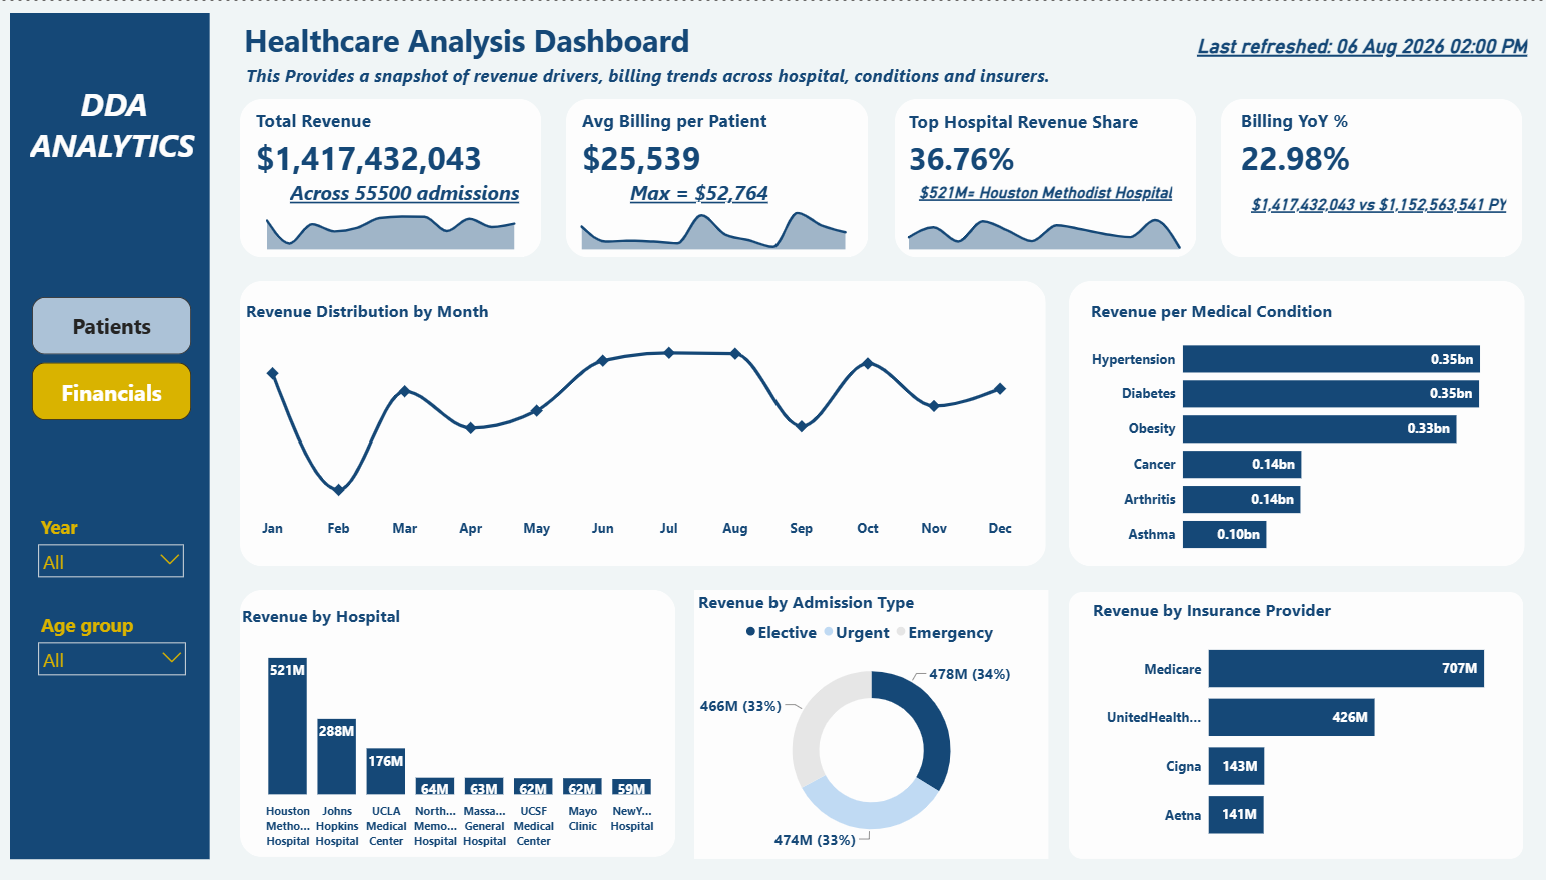

Layout of this report page (visuals, bound fields, positions):
{"tool":"powerbi","page":{"name":"Financials","canvas":[1920,1080],"ordinal":1},"visuals":[{"type":"shape","box":[15.4,15.4,243.6,1030.8],"z":0},{"type":"shape","box":[295.3,118.6,367.4,193],"z":1000},{"type":"shape","box":[693,118.6,367.4,193],"z":2000},{"type":"shape","box":[1093,118.6,367.4,193],"z":3000},{"type":"shape","box":[1490.7,118.6,367.4,193],"z":4000},{"type":"textbox","box":[295.3,16.3,904.7,88.4],"z":5000},{"type":"shape","box":[295.3,341.9,981.4,346.5],"z":6000},{"type":"shape","box":[1304.7,341.9,555.8,346.5],"z":7000},{"type":"shape","box":[294.9,717.9,530.8,325.6],"z":8000},{"type":"shape","box":[1305.1,720.5,553.8,325.6],"z":9000},{"type":"lineChart","title":"Revenue Distribution by Month","fields":{"Y":["Table1.Total Revenue"],"Category":["Date.Month"]},"box":[297.7,362.8,960.5,300],"z":10000},{"type":"cardVisual","fields":{"Data":["Table1.Total Revenue"]},"box":[297.4,94.9,364.1,156.4],"z":11000},{"type":"pageNavigator","box":[41,361.5,194.9,151.3],"z":12000},{"type":"textbox","box":[297.7,69.8,1053.5,48.8],"z":13000},{"type":"barChart","title":"Revenue by Insurance Provider","fields":{"Category":["Table1.Insurance Provider"],"Y":["Table1.Total Revenue"]},"box":[1328.2,725.6,530.8,317.9],"z":14000},{"type":"barChart","title":"Revenue per Medical Condition","fields":{"Category":["Table1.Medical Condition"],"Y":["Table1.Total Revenue"]},"box":[1327.9,362.8,530.2,325.6],"z":15000},{"type":"clusteredColumnChart","title":"Revenue by Hospital","fields":{"Category":["Table1.Hospital"],"Y":["Table1.Total Revenue"]},"box":[292.3,733.3,533.3,305.1],"z":16000},{"type":"slicer","fields":{"Values":["calender.Year"]},"box":[38.5,620.5,197.4,97.4],"z":17000},{"type":"slicer","fields":{"Values":["Table1.Age group"]},"box":[38.5,738.5,200,84.6],"z":18000},{"type":"cardVisual","fields":{"Data":["All Dax Measures.Avg Billing per Patient"]},"box":[694.9,94.9,364.1,156.4],"z":19000},{"type":"cardVisual","fields":{"Data":["All Dax Measures.Total Billing Revenue Subtitle"]},"box":[338.5,148.7,410.3,161.5],"z":20000},{"type":"cardVisual","fields":{"Data":["All Dax Measures.Avg Billing per Patient Subtitle"]},"box":[753.8,148.7,410.3,161.5],"z":21000},{"type":"cardVisual","fields":{"Data":["All Dax Measures.Top Hospital Revenue Share"]},"box":[1092.3,94.9,364.1,156.4],"z":22000},{"type":"cardVisual","fields":{"Data":["All Dax Measures.Top Hospital Revenue Share Subtitle"]},"box":[1105.1,148.7,410.3,161.5],"z":23000},{"type":"donutChart","title":"Revenue by Admission Type","fields":{"Category":["Table1.Admission Type"],"Y":["Table1.Total Revenue"]},"box":[848.7,717.9,430.8,328.2],"z":24000},{"type":"areaChart","fields":{"Category":["calender.Month"],"Y":["Table1.Total Revenue"]},"box":[312.8,243.6,333.3,64.1],"z":25000},{"type":"areaChart","fields":{"Category":["calender.Month"],"Y":["All Dax Measures.Avg Billing per Patient"]},"box":[694.9,243.6,353.8,64.1],"z":26000},{"type":"areaChart","fields":{"Category":["calender.Month"],"Y":["All Dax Measures.Top Hospital Revenue Share"]},"box":[1092.3,243.6,364.1,64.1],"z":27000},{"type":"cardVisual","fields":{"Data":["All Dax Measures.Billing YoY %"]},"box":[1497.4,94.9,364.1,156.4],"z":28000},{"type":"cardVisual","fields":{"Data":["All Dax Measures.Billing YoY Subtitle"]},"box":[1510.3,164.1,410.3,161.5],"z":29000},{"type":"cardVisual","fields":{"Data":["All Dax Measures.Last Seen"]},"box":[1443.6,0,446.2,102.6],"z":30000},{"type":"textbox","box":[33.3,94.9,279.5,207.7],"z":31000}]}

Visuals, with their boxes in screenshot pixels (x1, y1, x2, y2), scaled from the page's 1920x1080 canvas onto the 1546x880 screenshot:
shape: BBox(12, 13, 209, 852)
shape: BBox(238, 97, 534, 254)
shape: BBox(558, 97, 854, 254)
shape: BBox(880, 97, 1176, 254)
shape: BBox(1200, 97, 1496, 254)
textbox: BBox(238, 13, 966, 85)
shape: BBox(238, 279, 1028, 561)
shape: BBox(1051, 279, 1498, 561)
shape: BBox(237, 585, 665, 850)
shape: BBox(1051, 587, 1497, 852)
"Revenue Distribution by Month" lineChart: BBox(240, 296, 1013, 540)
cardVisual - Table1.Total Revenue: BBox(239, 77, 533, 205)
pageNavigator: BBox(33, 295, 190, 418)
textbox: BBox(240, 57, 1088, 97)
"Revenue by Insurance Provider" barChart: BBox(1069, 591, 1497, 850)
"Revenue per Medical Condition" barChart: BBox(1069, 296, 1496, 561)
"Revenue by Hospital" clusteredColumnChart: BBox(235, 598, 665, 846)
slicer - calender.Year: BBox(31, 506, 190, 585)
slicer - Table1.Age group: BBox(31, 602, 192, 671)
cardVisual - All Dax Measures.Avg Billing per Patient: BBox(560, 77, 853, 205)
cardVisual - All Dax Measures.Total Billing Revenue Subtitle: BBox(273, 121, 603, 253)
cardVisual - All Dax Measures.Avg Billing per Patient Subtitle: BBox(607, 121, 937, 253)
cardVisual - All Dax Measures.Top Hospital Revenue Share: BBox(880, 77, 1173, 205)
cardVisual - All Dax Measures.Top Hospital Revenue Share Subtitle: BBox(890, 121, 1220, 253)
"Revenue by Admission Type" donutChart: BBox(683, 585, 1030, 852)
areaChart - calender.Month x Table1.Total Revenue: BBox(252, 198, 520, 251)
areaChart - calender.Month x All Dax Measures.Avg Billing per Patient: BBox(560, 198, 844, 251)
areaChart - calender.Month x All Dax Measures.Top Hospital Revenue Share: BBox(880, 198, 1173, 251)
cardVisual - All Dax Measures.Billing YoY %: BBox(1206, 77, 1499, 205)
cardVisual - All Dax Measures.Billing YoY Subtitle: BBox(1216, 134, 1545, 265)
cardVisual - All Dax Measures.Last Seen: BBox(1162, 0, 1522, 84)
textbox: BBox(27, 77, 252, 247)
